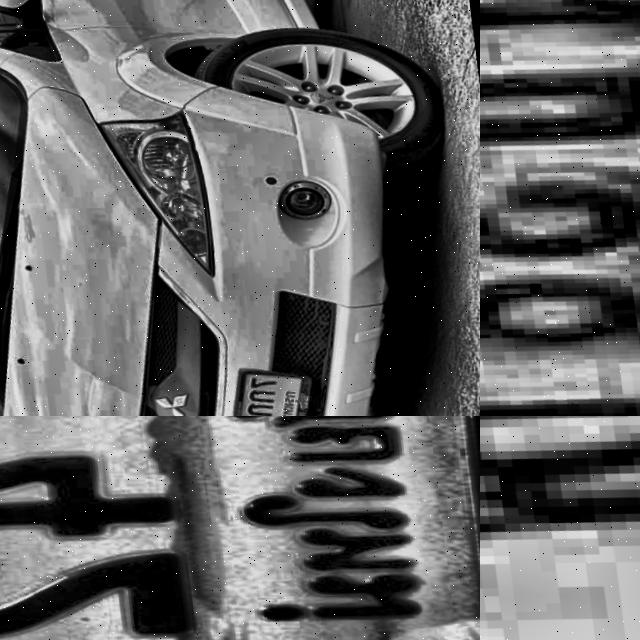license-plate: (0, 416, 480, 640), (480, 0, 640, 416), (480, 416, 640, 640), (210, 353, 317, 416)
